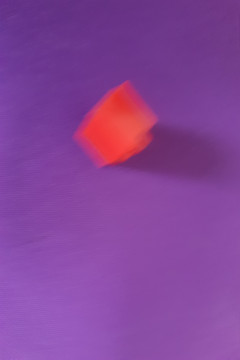1x2 red: (72, 79, 157, 170)
